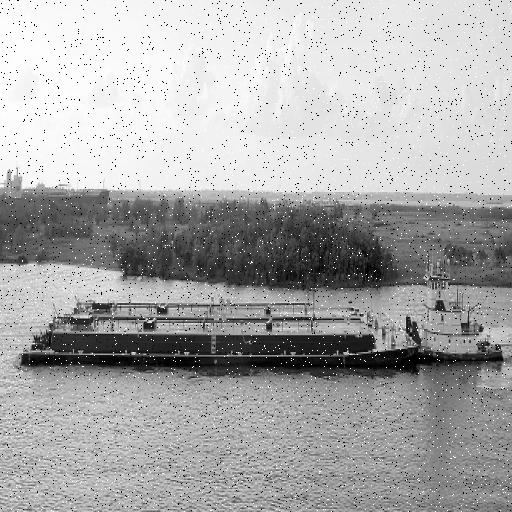tugboat: (401, 251, 506, 376)
